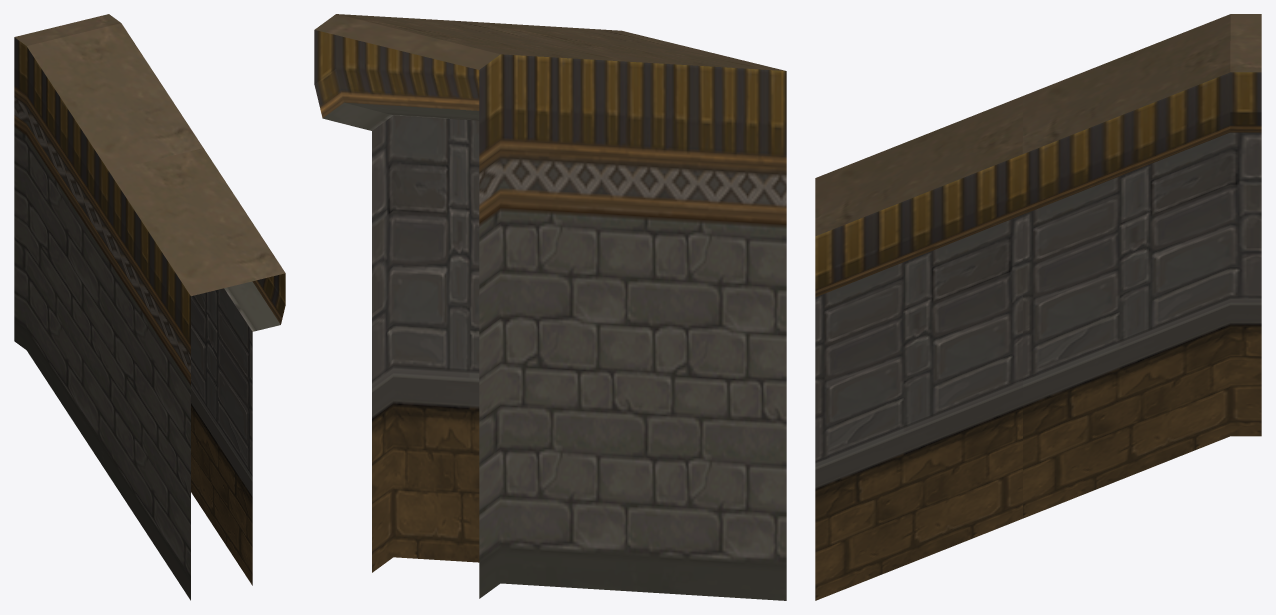
Rendered from Battle06_Wall_011.FBX.
The picture shows the model from 3 angles, left to right: view 1: azimuth 30°, elevation 25°; view 2: azimuth 150°, elevation 25°; view 3: azimuth 270°, elevation 25°; orthographic projection. The views are drawn at different scales.
Parts seen in each view (by area): view 1: Battle06_Wall_011; view 2: Battle06_Wall_011; view 3: Battle06_Wall_011.
Part boxes in pixels (x1,y1,x2,y2): Battle06_Wall_011: (14,14,285,600); Battle06_Wall_011: (314,14,786,600); Battle06_Wall_011: (815,14,1261,600).
Size of the model in its own units: 3.02 by 13.22 by 9.75.
